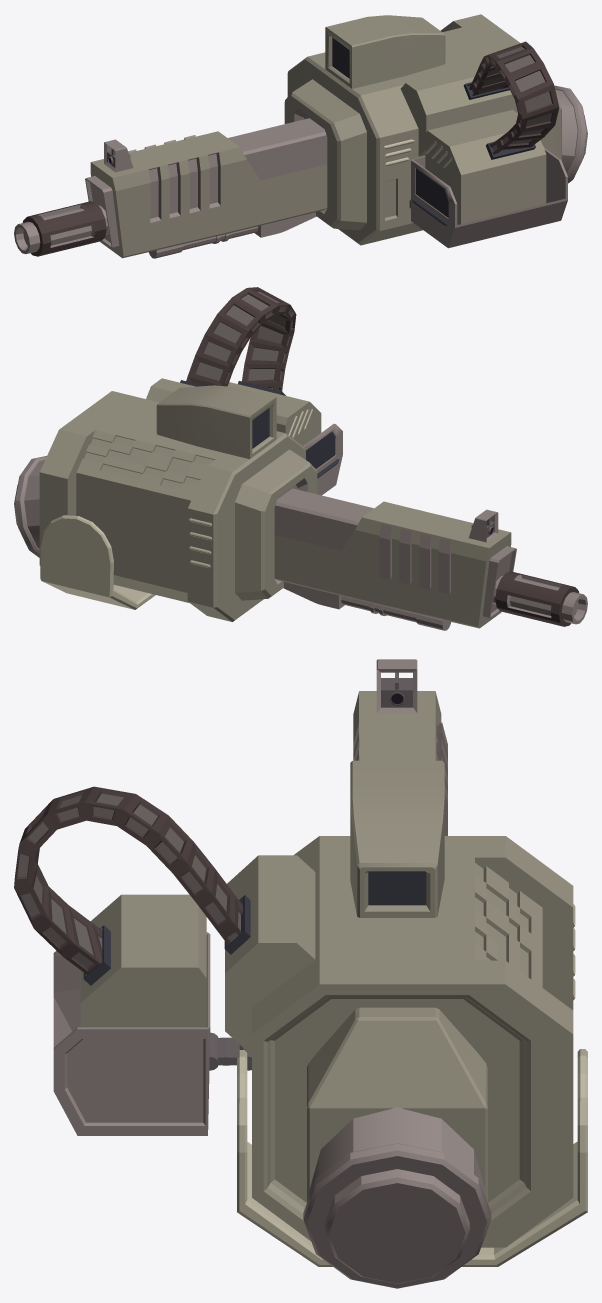
Rendered from Turret.dae.
The picture shows the model from 3 angles, top to bottom: view 1: azimuth 30°, elevation 25°; view 2: azimuth 150°, elevation 25°; view 3: azimuth 270°, elevation 25°; orthographic projection. The views are drawn at different scales.
Parts seen in each view (by area): view 1: turret; view 2: turret; view 3: turret.
Part boxes in pixels (left/top/right/bottom): turret: left=14, top=14, right=587, bottom=258; turret: left=14, top=287, right=587, bottom=630; turret: left=14, top=659, right=587, bottom=1288.
Bounding box in the file's own units: 1.47 × 0.7497 × 0.5922.
